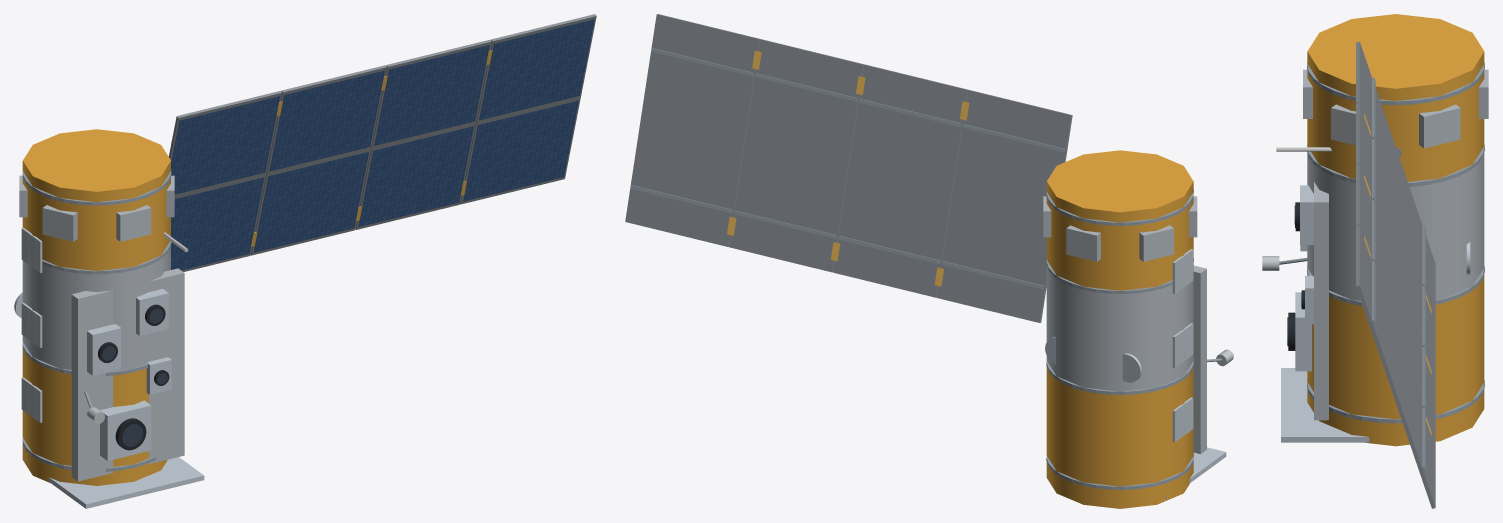
Rendered from noaa-n.glb.
3 views of the same model, side by side, from view 1: azimuth 30°, elevation 25°; view 2: azimuth 150°, elevation 25°; view 3: azimuth 270°, elevation 25° (orthographic). The views are drawn at different scales.
Parts seen in each view (by area): view 1: Solar cell strings (×8), Reaction control module, Instrument mounting tray, Solar panel substrate (×4), Instrument mounting platform, Equipment support module, Instrument sun shield, Thermal louver panel (×3), Aft equipment pack (×2), AVHRR scanning radiometer housing, Bus flange (×2), AMSU-A housing (+2 smaller); view 2: Solar panel substrate (×4), Equipment support module, Reaction control module, Instrument mounting platform, Instrument mounting tray, Bus flange (×3), Thermal louver panel (×3), Aft equipment pack (×2); view 3: Reaction control module, Solar panel substrate (×4), Equipment support module, Instrument mounting platform, Instrument mounting tray, Aft equipment pack (×4), Bus flange (×4), Instrument sun shield, AVHRR scanning radiometer housing, Infrared sounder housing, Microwave Humidity Sounder housing, AVHRR scanning radiometer aperture (+2 smaller).
Boxes of the visible parts, box(x1,y1,x2,y2) form: Solar cell strings (×8): box(171, 19, 594, 270); Reaction control module: box(22, 129, 170, 270); Instrument mounting tray: box(71, 268, 184, 481); Solar panel substrate (×4): box(168, 14, 596, 271); Instrument mounting platform: box(22, 246, 170, 370); Equipment support module: box(22, 346, 167, 485); Instrument sun shield: box(26, 457, 204, 508); Thermal louver panel (×3): box(21, 227, 42, 422); Aft equipment pack (×2): box(42, 205, 151, 241); AVHRR scanning radiometer housing: box(100, 400, 151, 460); Bus flange (×2): box(22, 170, 171, 274); AMSU-A housing: box(87, 324, 121, 375); Solar panel substrate (×4): box(625, 14, 1072, 322); Equipment support module: box(1046, 367, 1193, 508); Reaction control module: box(1046, 150, 1193, 290); Instrument mounting platform: box(1046, 266, 1193, 391); Instrument mounting tray: box(1193, 265, 1206, 453); Bus flange (×3): box(1046, 189, 1193, 489); Thermal louver panel (×3): box(1172, 249, 1193, 442); Aft equipment pack (×2): box(1066, 225, 1173, 261); Reaction control module: box(1307, 14, 1484, 181); Solar panel substrate (×4): box(1356, 41, 1435, 508); Equipment support module: box(1307, 274, 1484, 446); Instrument mounting platform: box(1307, 152, 1484, 300); Instrument mounting tray: box(1314, 182, 1328, 420); Aft equipment pack (×4): box(1303, 69, 1488, 148); Bus flange (×4): box(1307, 62, 1484, 423); Instrument sun shield: box(1281, 368, 1369, 442); AVHRR scanning radiometer housing: box(1295, 292, 1311, 371); Infrared sounder housing: box(1300, 185, 1313, 244); Microwave Humidity Sounder housing: box(1305, 275, 1313, 324); AVHRR scanning radiometer aperture: box(1288, 312, 1295, 350).
Bounding box in the file's own units: 8.04 × 4.75 × 2.41.
Materials: 12 (2 with a texture image).
